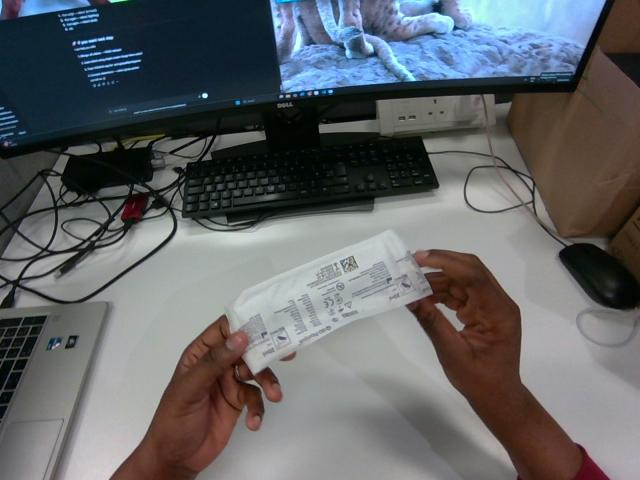syringe: (226, 230, 431, 373)
